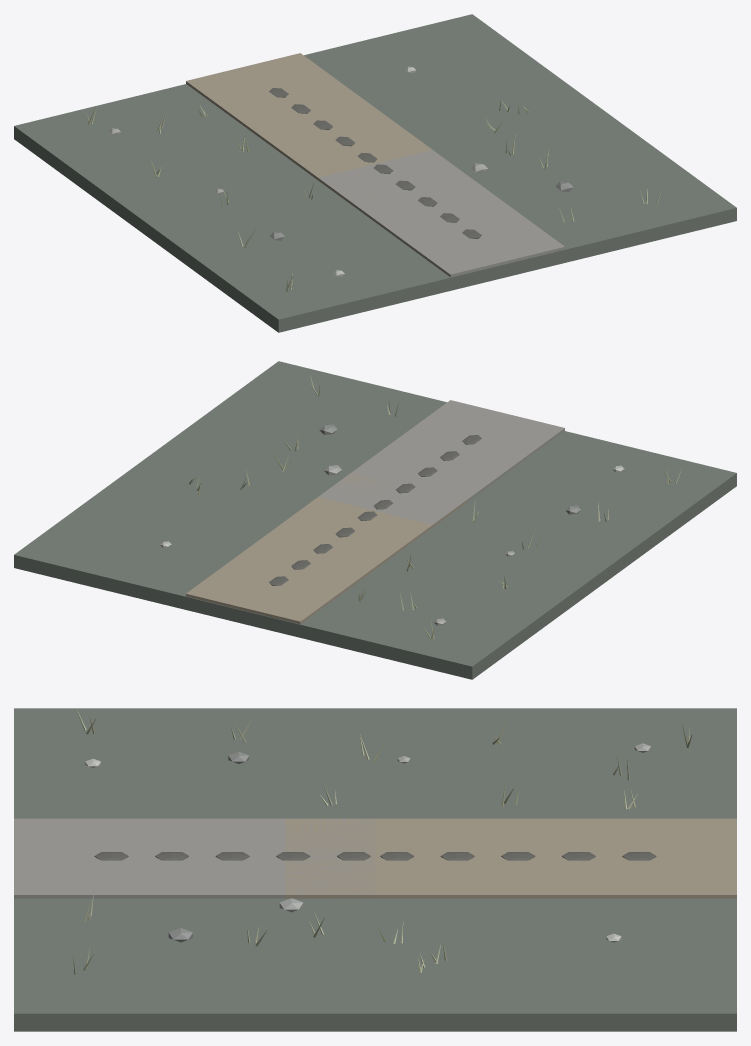
File: transition_path_trail_ns.glb
3 renders of one model, top to bottom at view 1: azimuth 30°, elevation 25°; view 2: azimuth 150°, elevation 25°; view 3: azimuth 270°, elevation 25°, orthographic. The views are drawn at different scales.
Visible parts, largest first — view 1: road_material_00, road_material_02, road_material_01, road_material_08, road_material_03; view 2: road_material_00, road_material_01, road_material_02, road_material_08, road_material_03; view 3: road_material_00, road_material_01, road_material_02, road_material_08, road_material_03, road_material_04.
Part boxes in pixels (left/top/right/bottom): road_material_00: left=14, top=14, right=736, bottom=332; road_material_02: left=318, top=150, right=564, bottom=277; road_material_01: left=186, top=53, right=432, bottom=204; road_material_08: left=269, top=88, right=481, bottom=238; road_material_03: left=86, top=100, right=661, bottom=291; road_material_00: left=14, top=361, right=736, bottom=679; road_material_01: left=186, top=472, right=465, bottom=624; road_material_02: left=318, top=400, right=564, bottom=524; road_material_08: left=269, top=435, right=481, bottom=585; road_material_03: left=189, top=374, right=682, bottom=638; road_material_00: left=14, top=708, right=736, bottom=1031; road_material_01: left=285, top=818, right=736, bottom=898; road_material_02: left=14, top=818, right=375, bottom=898; road_material_08: left=94, top=852, right=656, bottom=860; road_material_03: left=73, top=708, right=689, bottom=974; road_material_04: left=86, top=717, right=692, bottom=972.
Size of the model in its own units: 8 by 0.5344 by 8.
